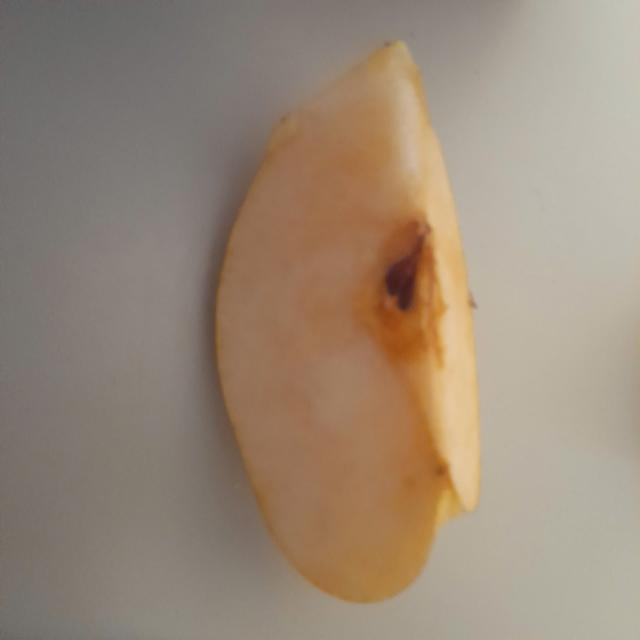Le: (196, 16, 489, 619)
